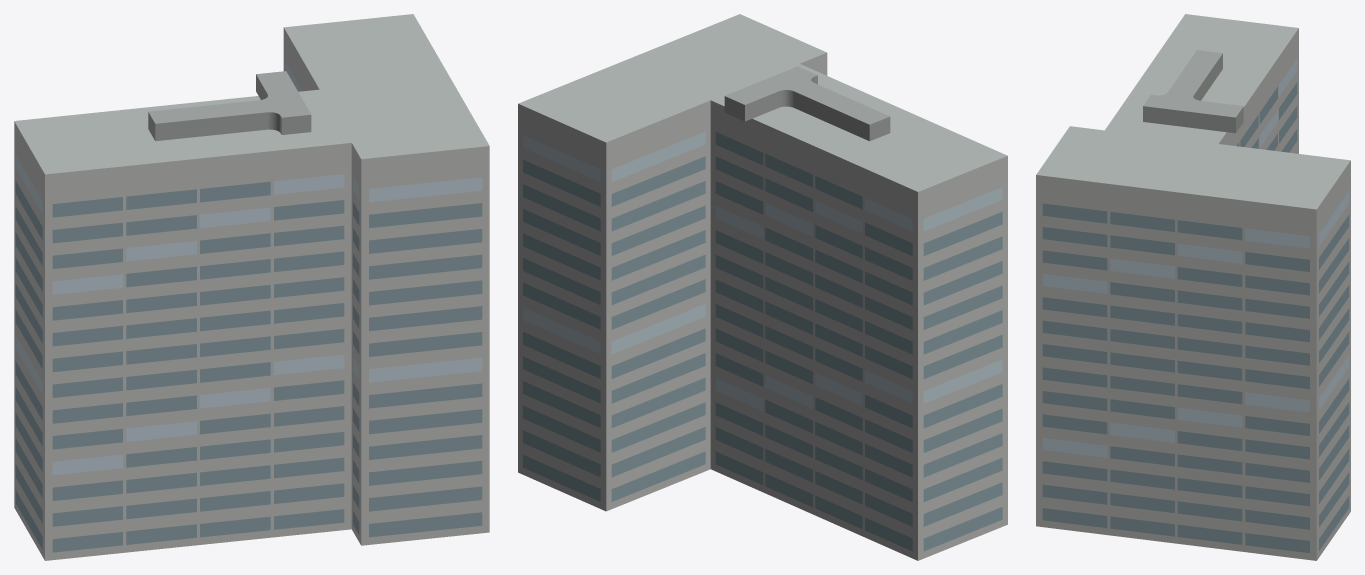
Rendered from fallback-olympic-park-foreon-315.glb.
3 renders of one model, left to right at view 1: azimuth 30°, elevation 25°; view 2: azimuth 150°, elevation 25°; view 3: azimuth 270°, elevation 25°, orthographic. The views are drawn at different scales.
Parts seen in each view (by area): view 1: fallback-olympic-park-foreon-315; view 2: fallback-olympic-park-foreon-315; view 3: fallback-olympic-park-foreon-315.
Part boxes in pixels (x1,y1,x2,y2): fallback-olympic-park-foreon-315: (14,14,489,560); fallback-olympic-park-foreon-315: (518,14,1007,560); fallback-olympic-park-foreon-315: (1036,14,1350,560).
Bounding box in the file's own units: 54.6 × 47.81 × 37.14.
